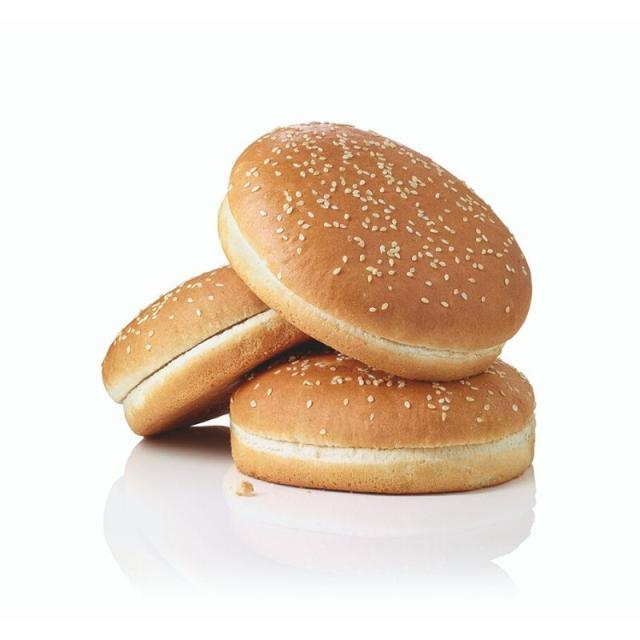Bun: (216, 118, 536, 386), (226, 339, 544, 499), (99, 258, 306, 442)
